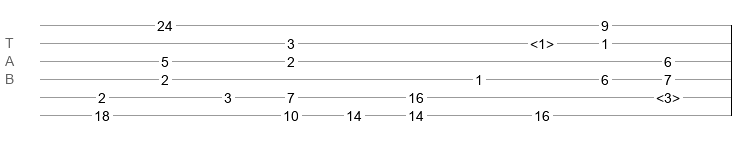1: (475, 72, 483, 82), (601, 36, 609, 46)
10: (283, 108, 299, 118)
14: (346, 108, 362, 118), (408, 108, 424, 118)
16: (408, 90, 424, 100), (534, 108, 550, 118)
18: (94, 108, 110, 118)
2: (98, 90, 106, 100), (161, 72, 169, 82), (287, 54, 295, 64)
24: (157, 18, 173, 28)
3: (224, 90, 232, 100), (287, 36, 295, 46)
5: (161, 54, 169, 64)
6: (601, 72, 609, 82), (664, 54, 672, 64)
7: (287, 90, 295, 100), (664, 72, 672, 82)
9: (601, 18, 609, 28)
harmonic: (530, 36, 554, 46), (656, 90, 680, 100)
